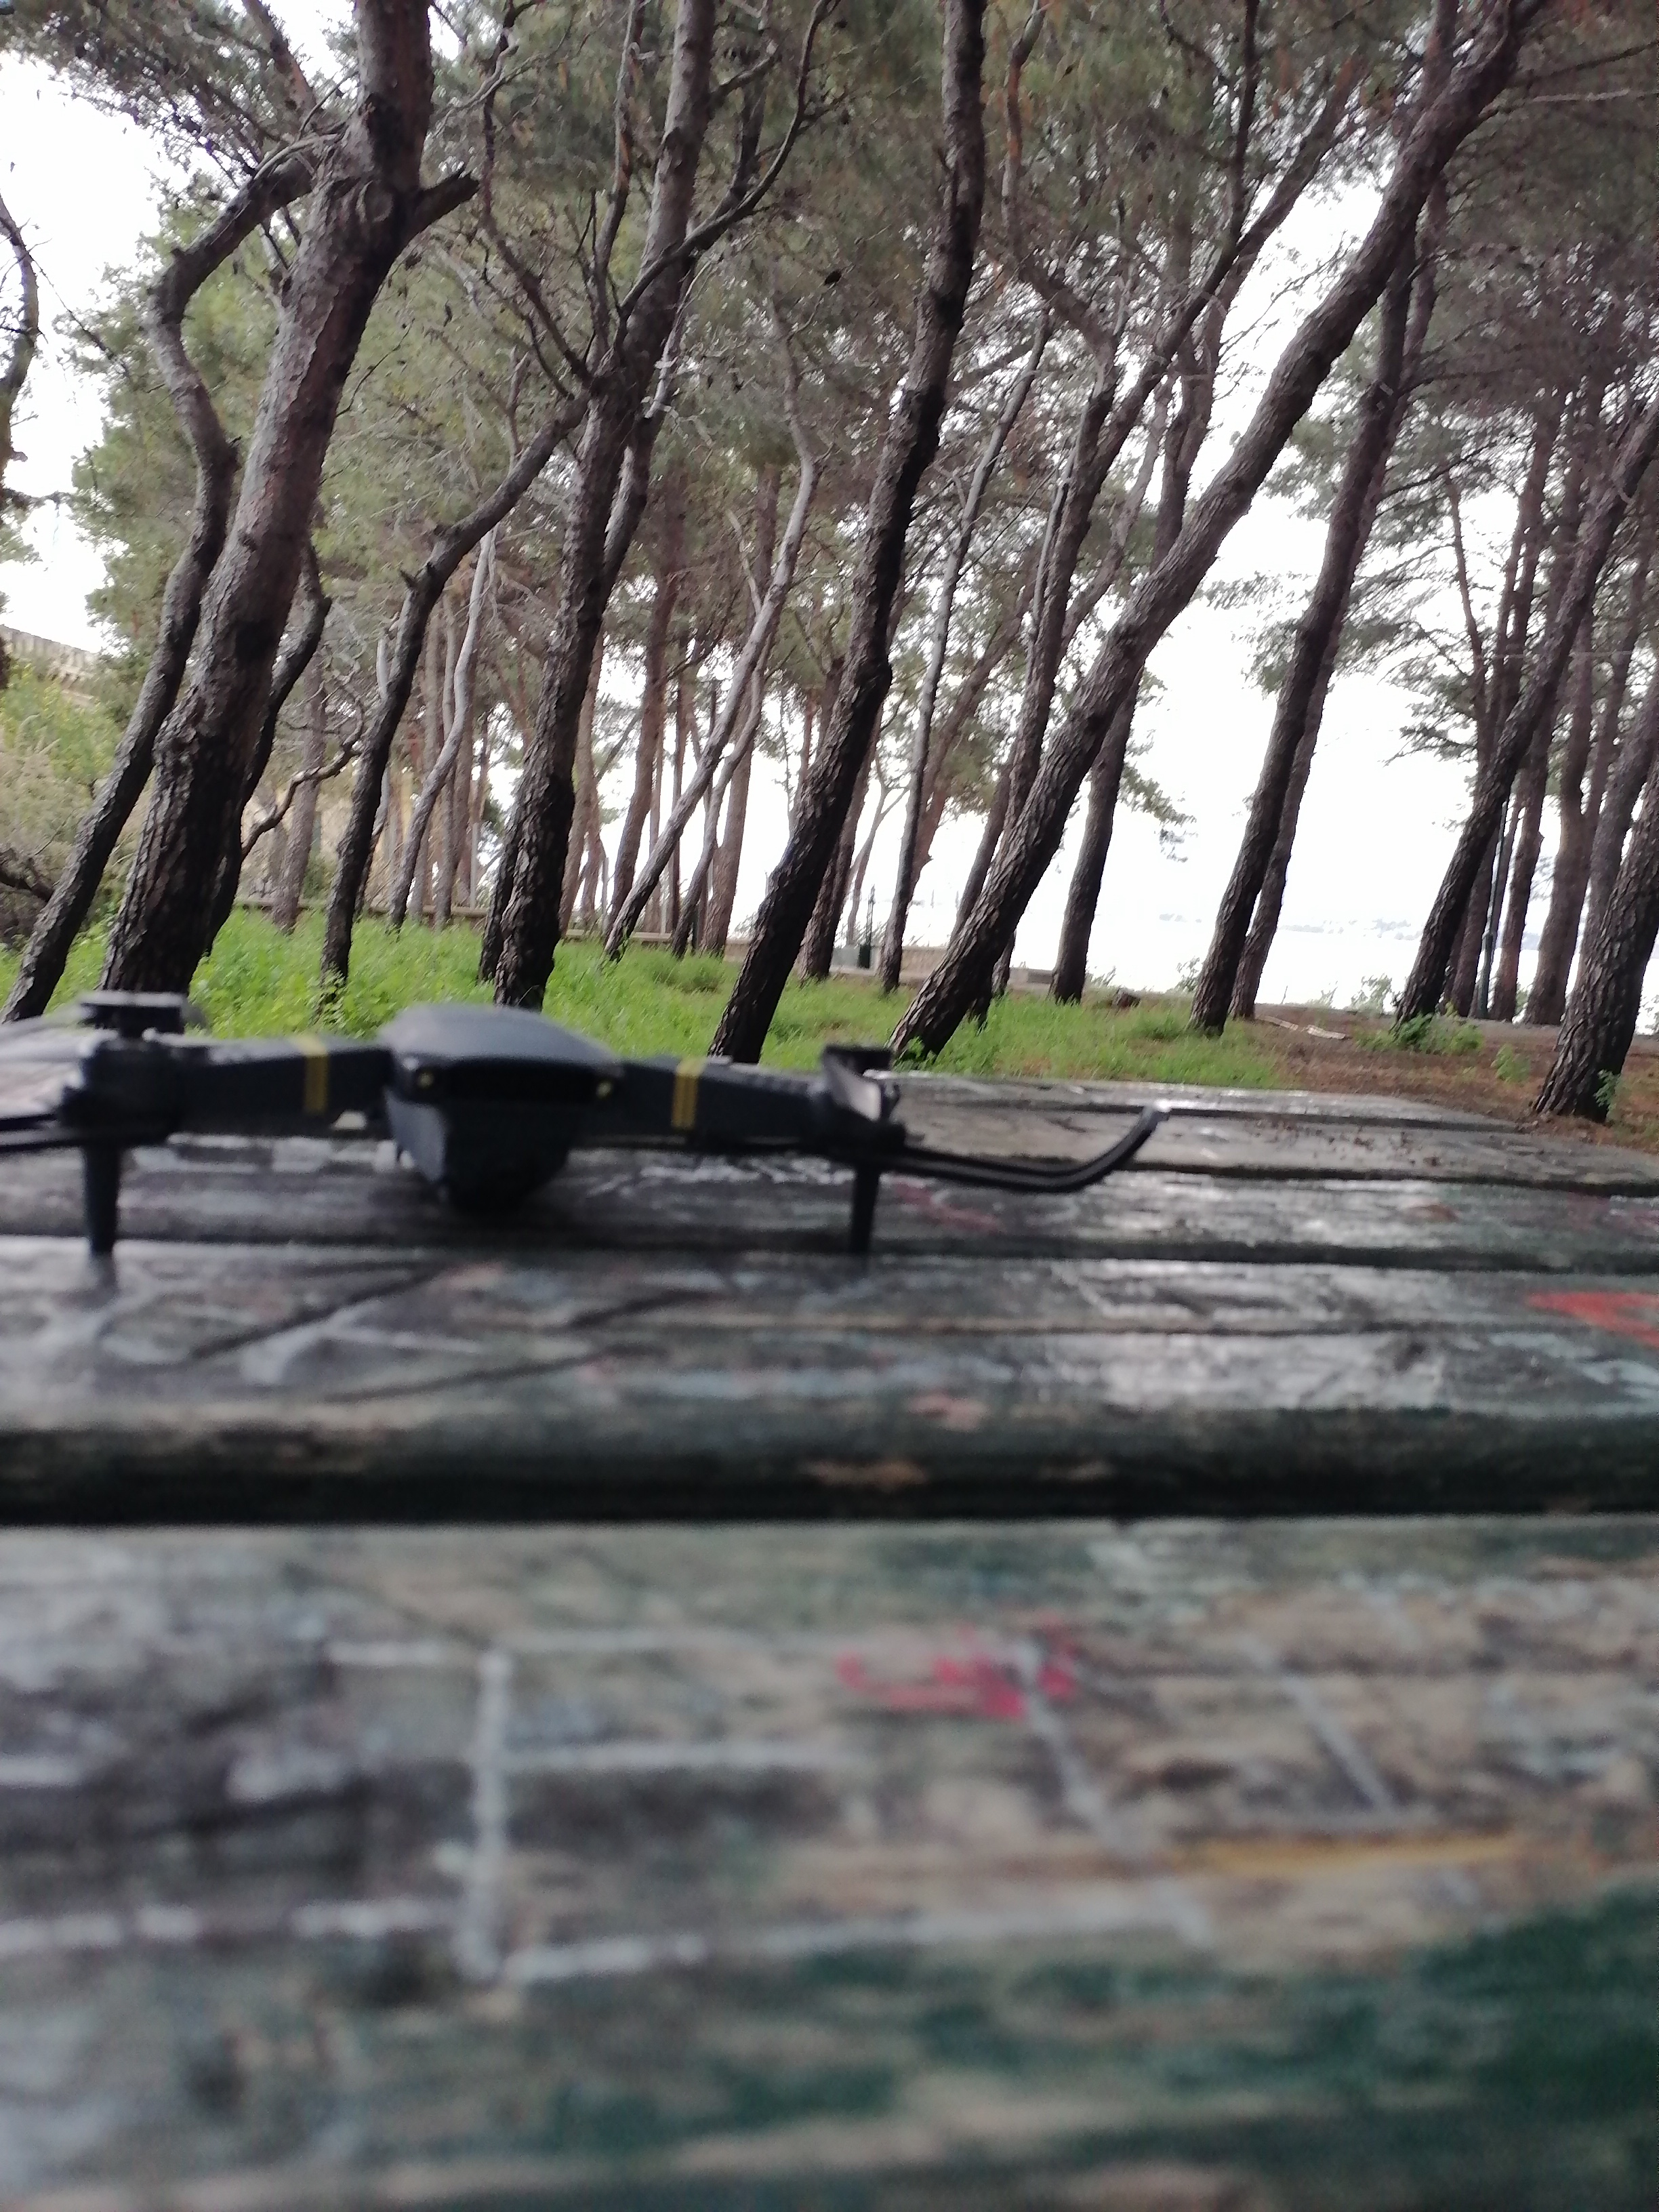drone: (3, 974, 1227, 1332)
